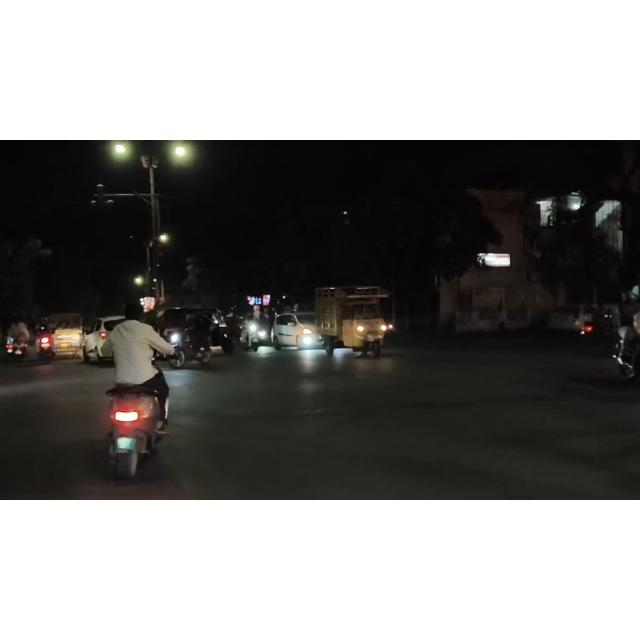auto: (155, 306, 241, 356), (42, 310, 90, 361)
car: (268, 305, 336, 359), (548, 297, 602, 343)
